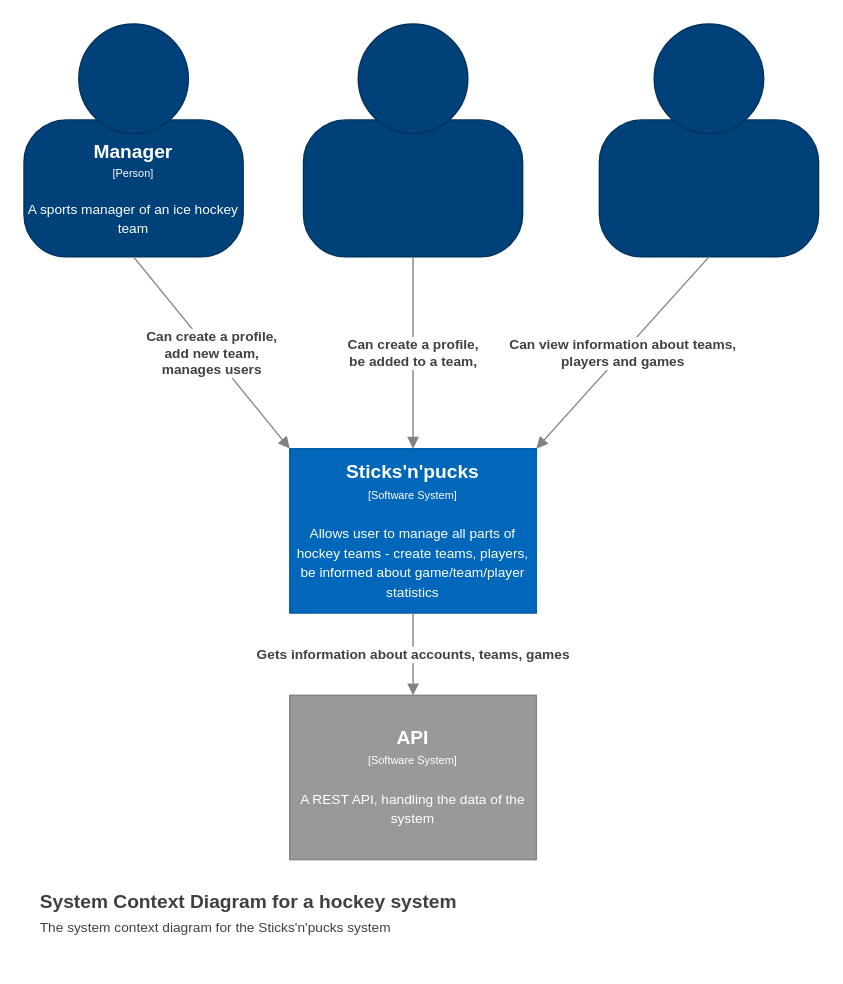
Image size: 843x984. Some labels were removed from this diagram. The shapes that lost their labels are listed below. From the top down, each one's box as (x1, y1, x2, y2) in pixels, then its label:
(302, 119, 523, 257): Athlete [Person] A hockey player
(598, 119, 819, 257): Fan [Person] A fan of ice hockey
